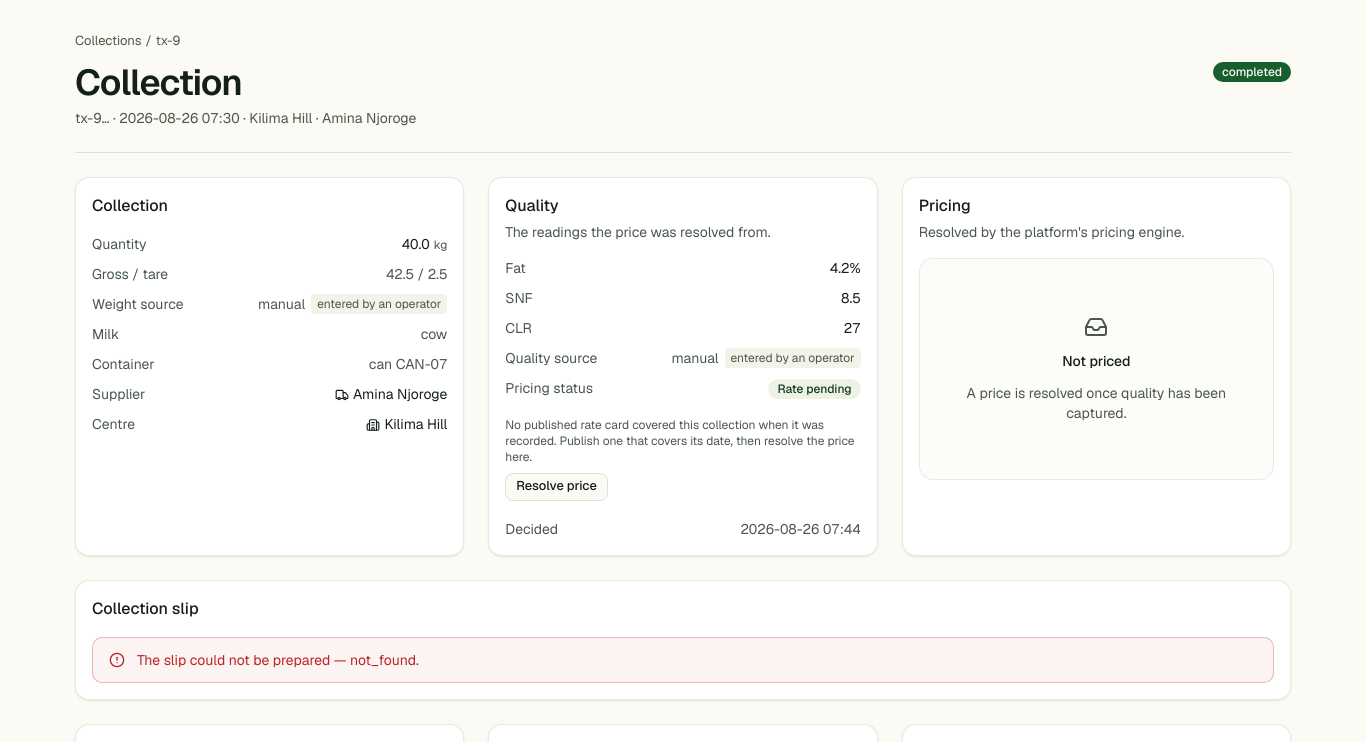
Test: a rate-pending collection in detail › resolves through the platform and shows the amount it computed
Click the button "Resolve price" at (557, 487), box [505,473,608,501]
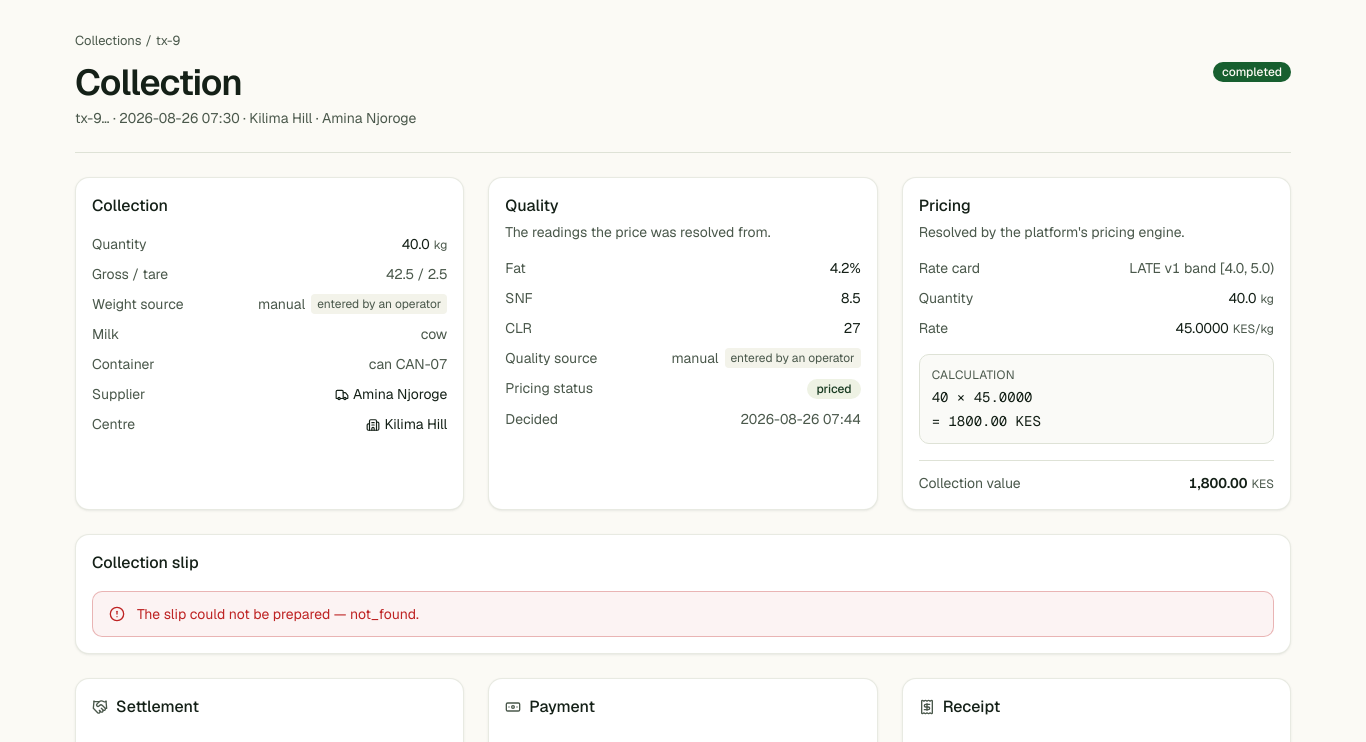
Result: the text "= 1800.00 KES" is shown at [932,412,1041,430]
Result: the button "Resolve price" is gone
